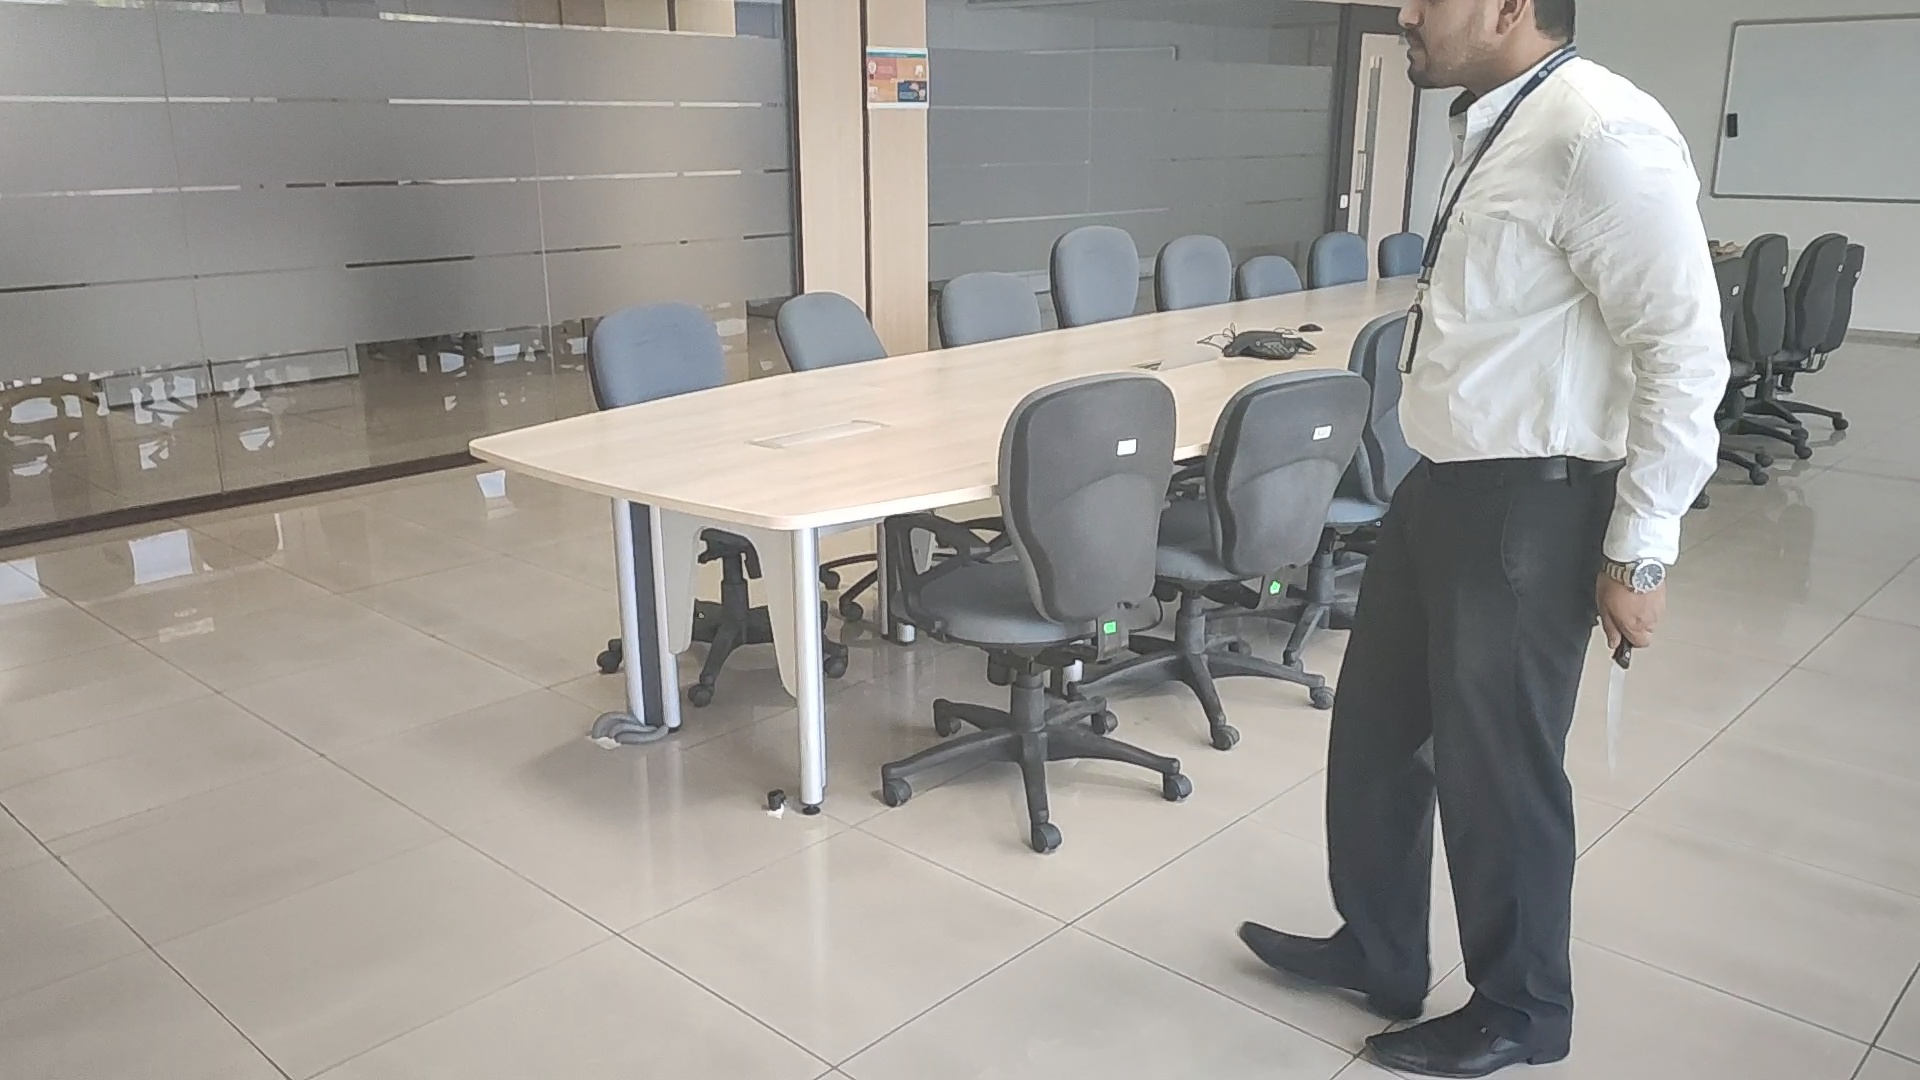knife: (1606, 655, 1627, 777)
